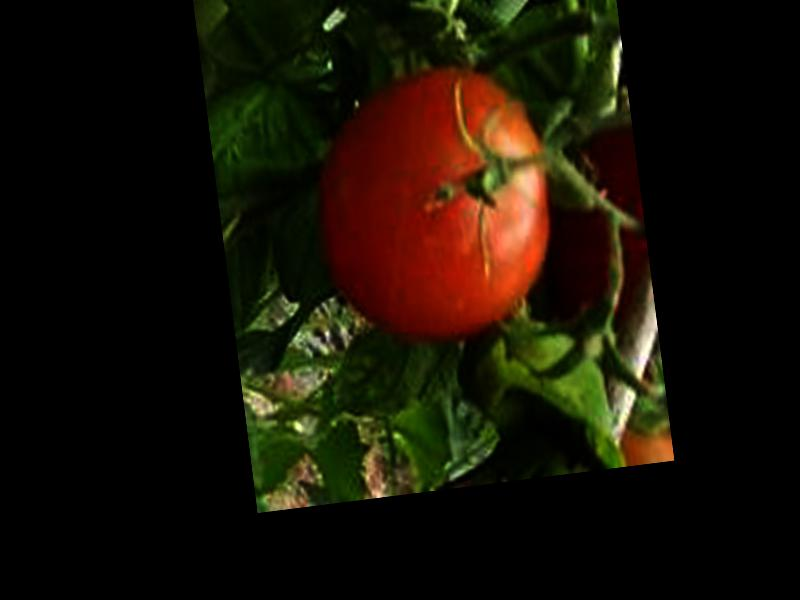Tomato: (309, 58, 566, 349)
